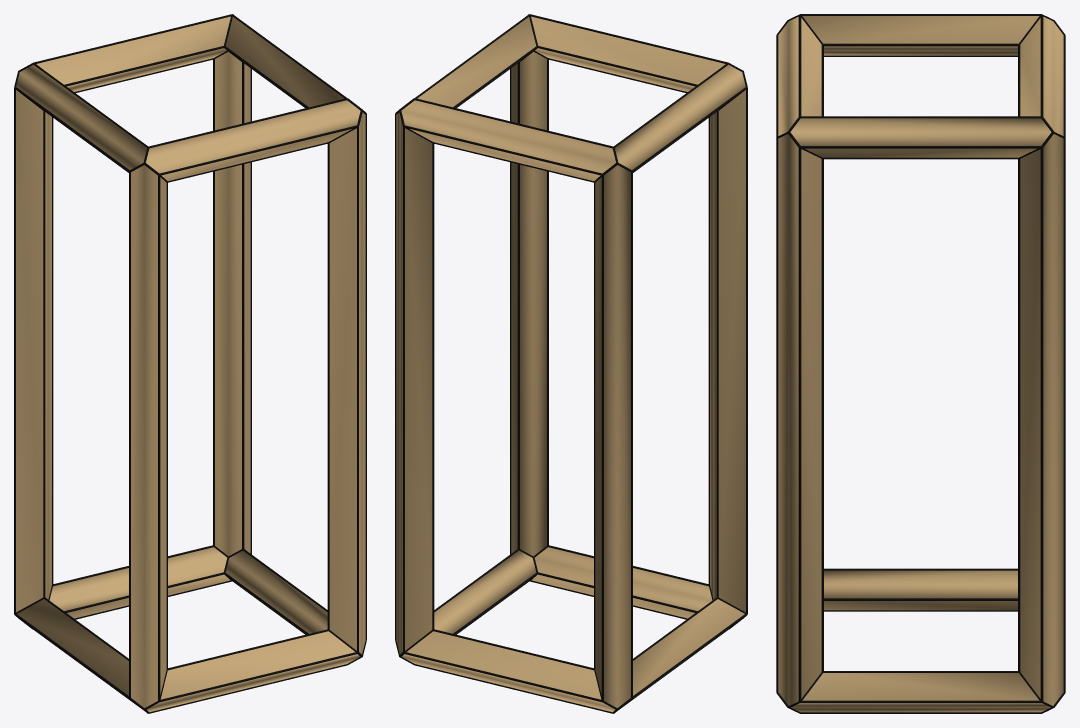
File: 012-servante-petite.glb
3 views of the same model, side by side, from view 1: azimuth 30°, elevation 25°; view 2: azimuth 150°, elevation 25°; view 3: azimuth 270°, elevation 25° (orthographic). The views are drawn at different scales.
Parts seen in each view (by area): view 1: arete-Z0, arete-Z1, arete-Z2, arete-Z3, arete-X2, arete-X0, arete-X3, arete-X1, arete-Y2, arete-wire-Z0, arete-wire-Z1, arete-Y0 (+12 smaller); view 2: arete-Z2, arete-Z3, arete-Z0, arete-Z1, arete-X3, arete-X1, arete-X2, arete-X0, arete-Y2, arete-wire-Z2, arete-wire-Z3, arete-wire-Z0 (+12 smaller); view 3: arete-Z1, arete-Z3, arete-Y3, arete-Y1, arete-Y2, arete-Y0, arete-wire-Z1, arete-wire-Z3, arete-X2, arete-X3, arete-wire-Y3, arete-wire-Y1 (+4 smaller).
Boxes of the visible parts, box(x1,y1,x2,y2) form: arete-Z0: box(131, 165, 166, 707); arete-Z1: box(329, 112, 365, 654); arete-Z2: box(16, 90, 51, 612); arete-Z3: box(215, 51, 250, 556); arete-X2: box(146, 100, 360, 181); arete-X0: box(146, 631, 360, 712); arete-X3: box(36, 16, 230, 91); arete-X1: box(49, 547, 230, 618); arete-Y2: box(16, 64, 146, 169); arete-wire-Z0: box(129, 163, 167, 701); arete-wire-Z1: box(327, 109, 366, 652); arete-Y0: box(17, 599, 128, 695); arete-Z2: box(595, 165, 630, 707); arete-Z3: box(396, 112, 432, 654); arete-Z0: box(710, 90, 745, 612); arete-Z1: box(511, 51, 546, 556); arete-X3: box(401, 100, 615, 181); arete-X1: box(401, 631, 615, 712); arete-X2: box(531, 16, 725, 91); arete-X0: box(531, 547, 712, 618); arete-Y2: box(615, 64, 745, 169); arete-wire-Z2: box(594, 163, 632, 701); arete-wire-Z3: box(395, 114, 434, 652); arete-wire-Z0: box(708, 71, 747, 613); arete-Z1: box(778, 134, 821, 705); arete-Z3: box(1020, 134, 1063, 705); arete-Y3: box(790, 118, 1051, 157); arete-Y1: box(791, 673, 1050, 712); arete-Y2: box(802, 16, 1039, 55); arete-Y0: box(824, 570, 1017, 610); arete-wire-Z1: box(776, 132, 823, 702); arete-wire-Z3: box(1018, 138, 1065, 702); arete-X2: box(778, 16, 821, 135); arete-X3: box(1020, 16, 1063, 135); arete-wire-Y3: box(800, 116, 1053, 159); arete-wire-Y1: box(788, 671, 1053, 713).
Size of the model in its own units: 0.2738 by 0.6238 by 0.2738.
